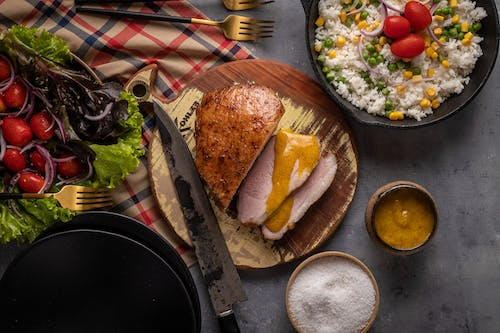knife: (151, 96, 250, 319)
